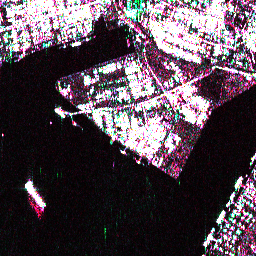ship: (23, 178, 47, 209), (201, 225, 216, 248), (52, 105, 68, 120), (214, 208, 227, 225), (232, 174, 244, 191), (227, 189, 236, 201), (69, 40, 82, 48), (224, 198, 231, 208)
